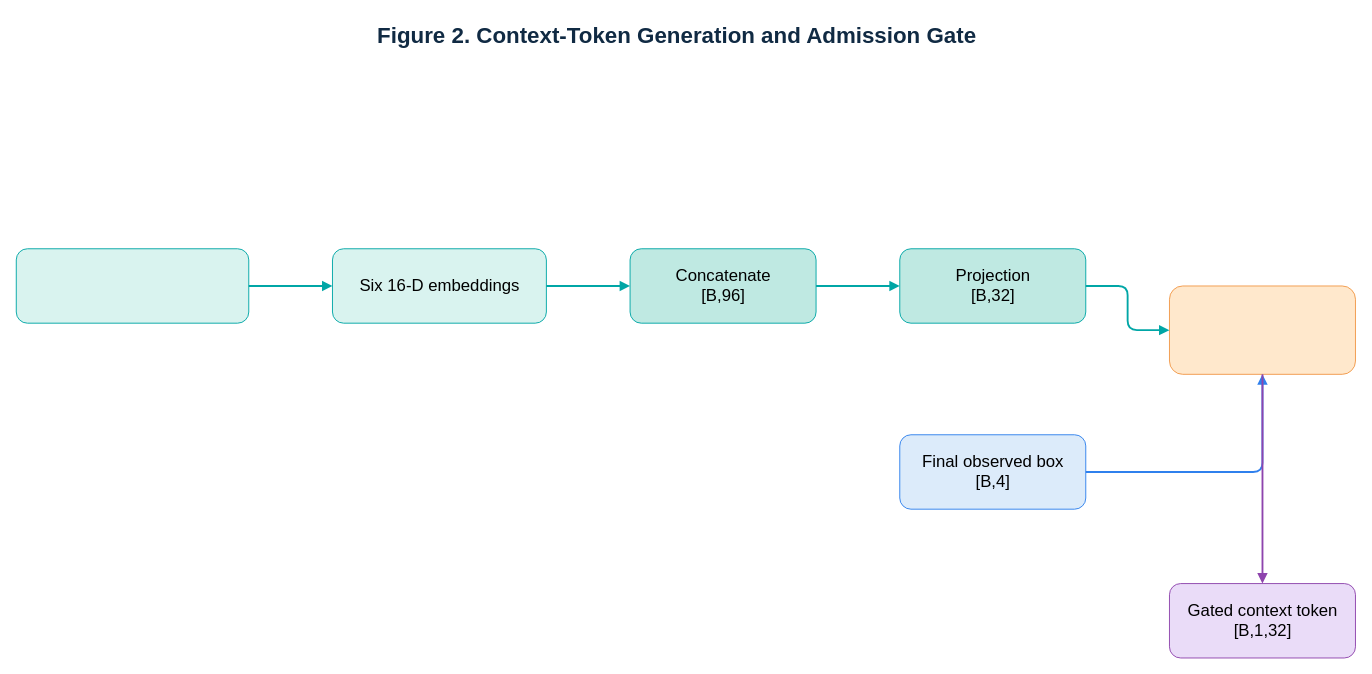
Some shapes in this 1372 by 674 pixel diagram are drawn without their labels. The shapes that lost their labels are listed below. From the top down, each one's centre as x and y in pixels, then its label:
At (132,285): "Six native context inputs".
At (1262,329): "Admission gate 36 → 16 → 2".
